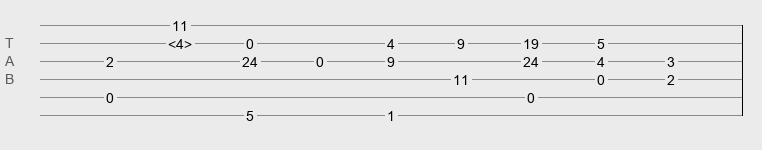0: (106, 90, 114, 100), (246, 36, 254, 46), (316, 54, 324, 64), (527, 90, 535, 100), (597, 72, 605, 82)
1: (387, 108, 395, 118)
11: (172, 18, 188, 28), (453, 72, 469, 82)
19: (523, 36, 539, 46)
2: (106, 54, 114, 64), (667, 72, 675, 82)
24: (242, 54, 258, 64), (523, 54, 539, 64)
3: (667, 54, 675, 64)
4: (387, 36, 395, 46), (597, 54, 605, 64)
5: (246, 108, 254, 118), (597, 36, 605, 46)
9: (387, 54, 395, 64), (457, 36, 465, 46)
harmonic: (168, 36, 192, 46)
